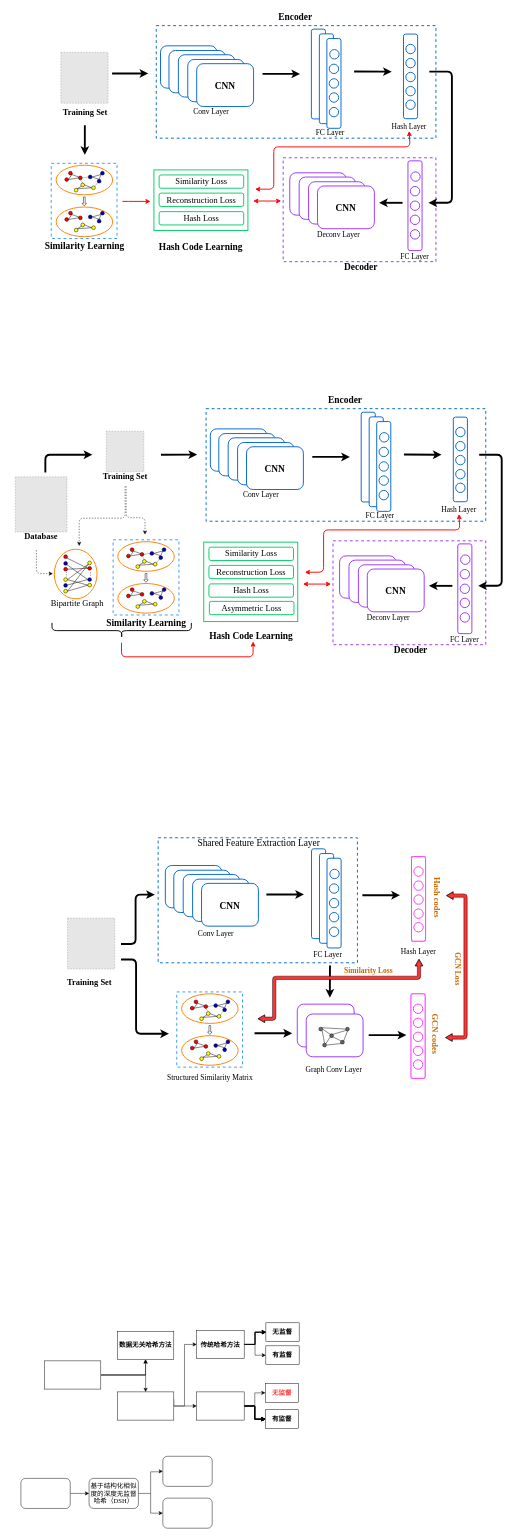
Image size: 514x1536. Some labels were removed from this diagram. Grey dashed boxes stand in for pictures. Here are the shapes that lost their labels. From the top down, the box of each, then its label:
(44, 1360, 101, 1389): 哈希方法
(117, 1391, 174, 1420): 数据依赖哈希方法
(196, 1391, 244, 1420): 深度哈希方法
(162, 1456, 212, 1486): 基于非对称学习的深度无监督哈希（ DAUH ）
(20, 1478, 70, 1508): 基于深度学习的哈希算法
(162, 1498, 212, 1528): 基于图卷积网络的深度无监督哈希（ DGCUH ）
